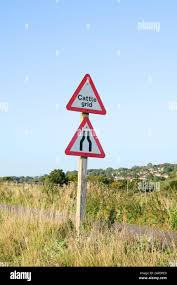narrow-road: (64, 117, 106, 158)
